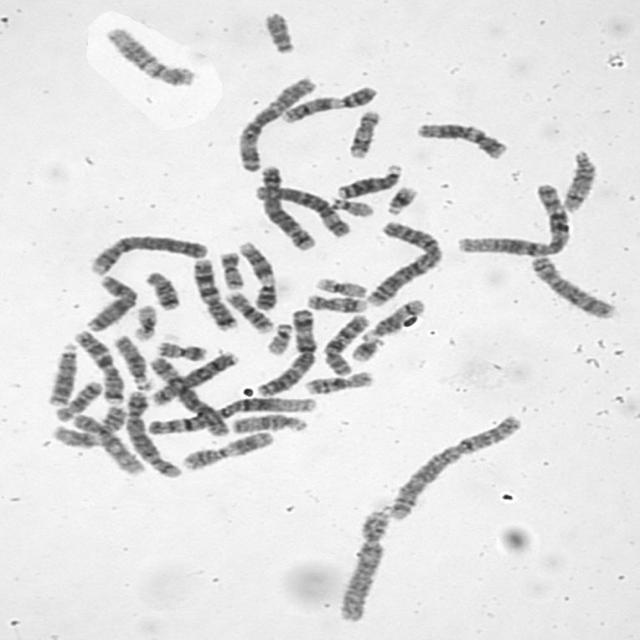A1: (452, 180, 575, 258), (143, 392, 321, 437)
A2: (385, 411, 526, 523), (360, 216, 445, 309)
A3: (234, 72, 320, 173), (253, 304, 321, 398)
B4: (334, 506, 394, 624), (86, 230, 211, 276)
B5: (121, 386, 184, 479), (256, 160, 319, 252)
C10: (66, 409, 147, 477), (318, 310, 372, 377)
C11: (178, 427, 277, 472), (46, 401, 129, 449)
C12: (100, 22, 199, 88), (412, 118, 511, 161)
C6: (143, 351, 232, 438), (252, 181, 354, 239)
C7: (70, 326, 128, 406), (188, 253, 242, 331)
C8: (526, 252, 619, 320), (149, 348, 241, 407)
C9: (278, 82, 381, 124), (234, 237, 280, 312)
D13: (332, 160, 404, 200), (43, 338, 80, 408)
D14: (359, 295, 428, 341), (558, 146, 600, 214)
D15: (109, 332, 155, 392), (227, 410, 312, 436)
E16: (222, 287, 276, 333), (301, 367, 376, 396)
E17: (344, 106, 383, 160), (302, 290, 370, 314)
E18: (52, 378, 106, 423), (141, 267, 183, 311)
F19: (311, 274, 369, 300), (129, 300, 160, 343)
F20: (152, 337, 208, 362), (216, 248, 247, 291)
G21: (382, 182, 421, 216), (348, 333, 386, 363)
G22: (326, 194, 377, 218), (262, 319, 295, 356)
X: (81, 271, 140, 333)
Y: (260, 8, 298, 54)
